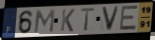6: (18, 10, 34, 35)
E: (119, 5, 140, 32)
K: (60, 8, 76, 33)
M: (33, 9, 57, 34)
T: (80, 7, 97, 32)
V: (100, 5, 121, 32)
